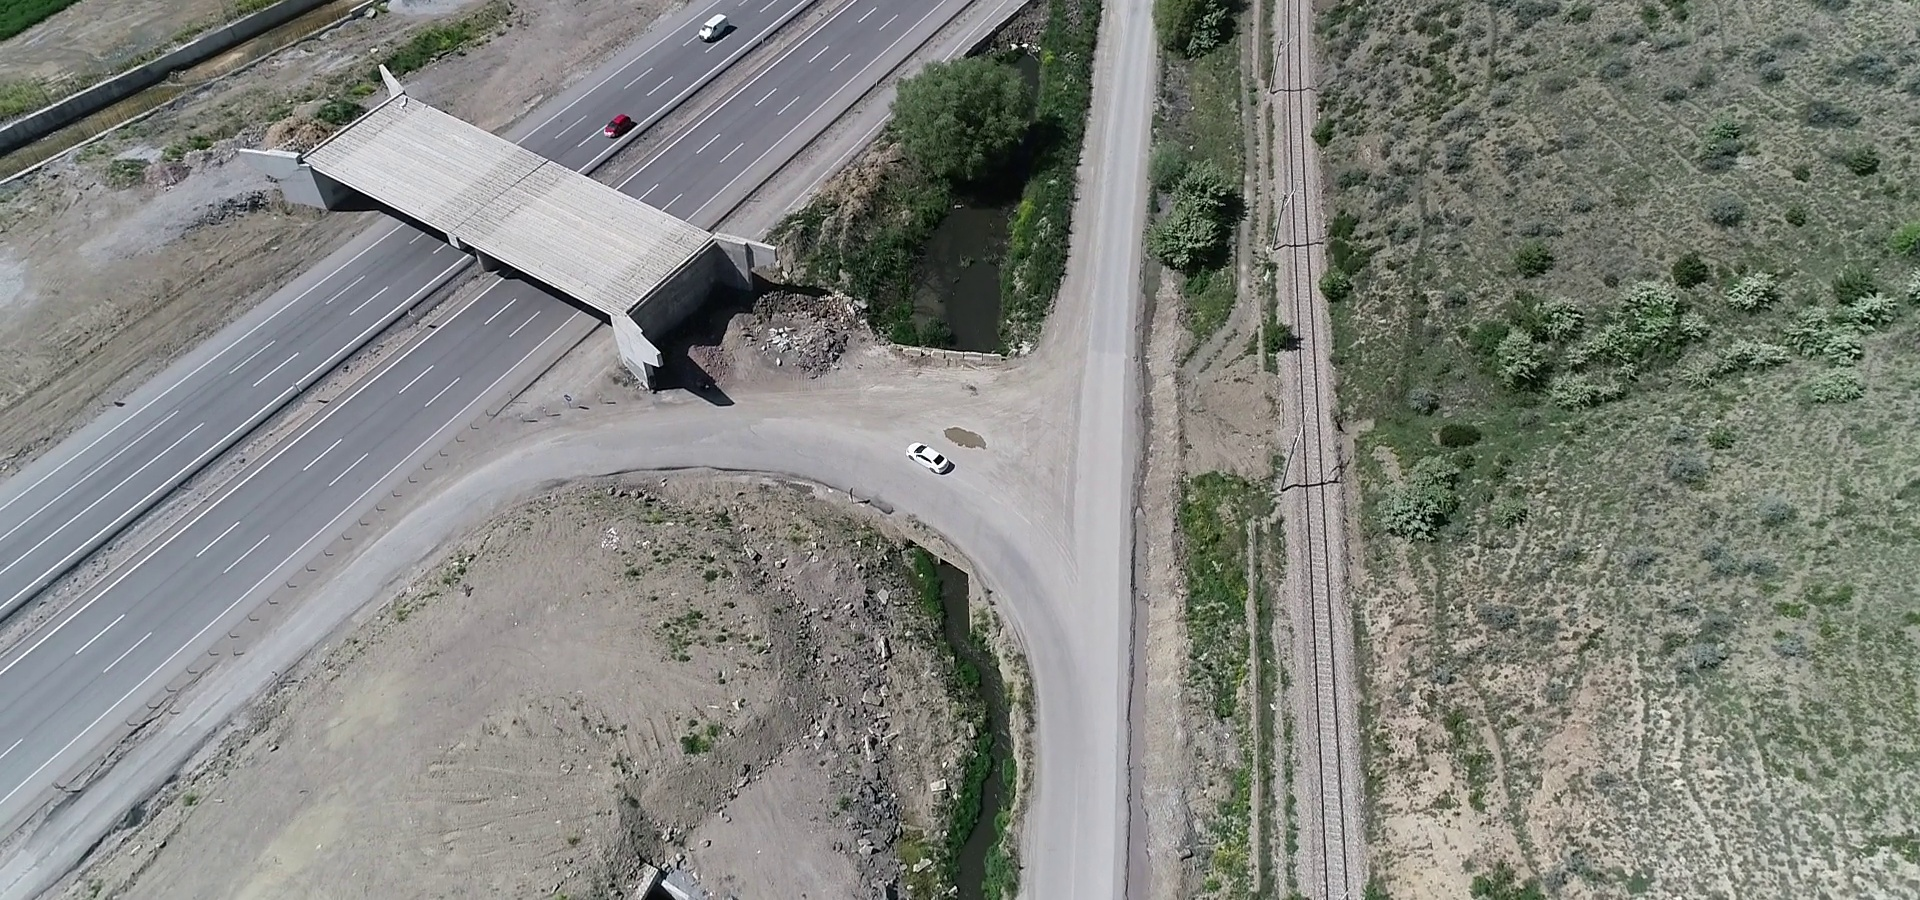araba: (898, 435, 966, 481), (691, 9, 741, 53), (594, 104, 640, 144)
